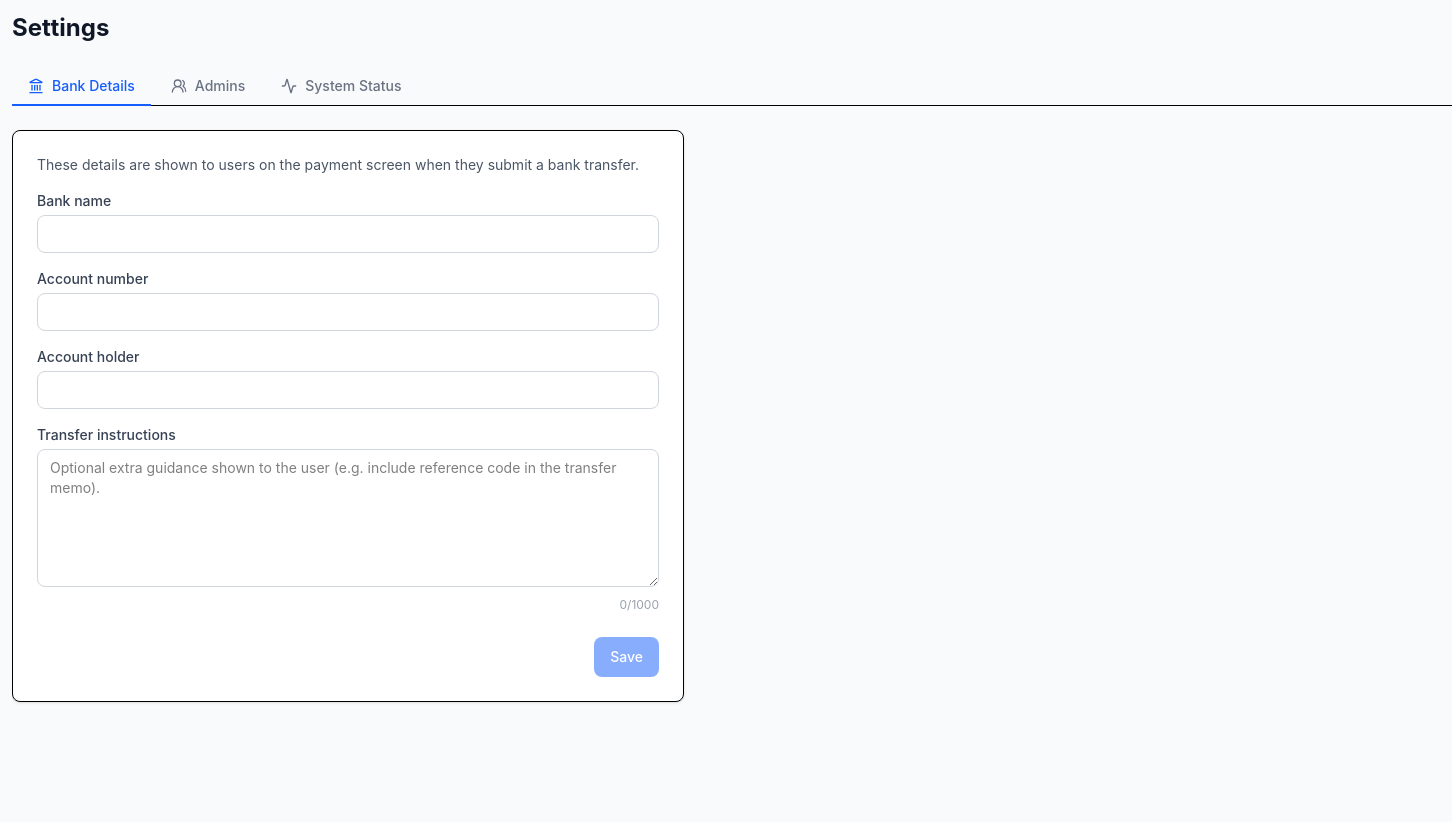
Test: SettingsPage — FreeRADIUS card › renders a healthy FreeRADIUS card with client count and raw detail
This screenshot has width=1452, height=822.
Click the button "System Status".
click(341, 87)  # box [265,68,418,106]
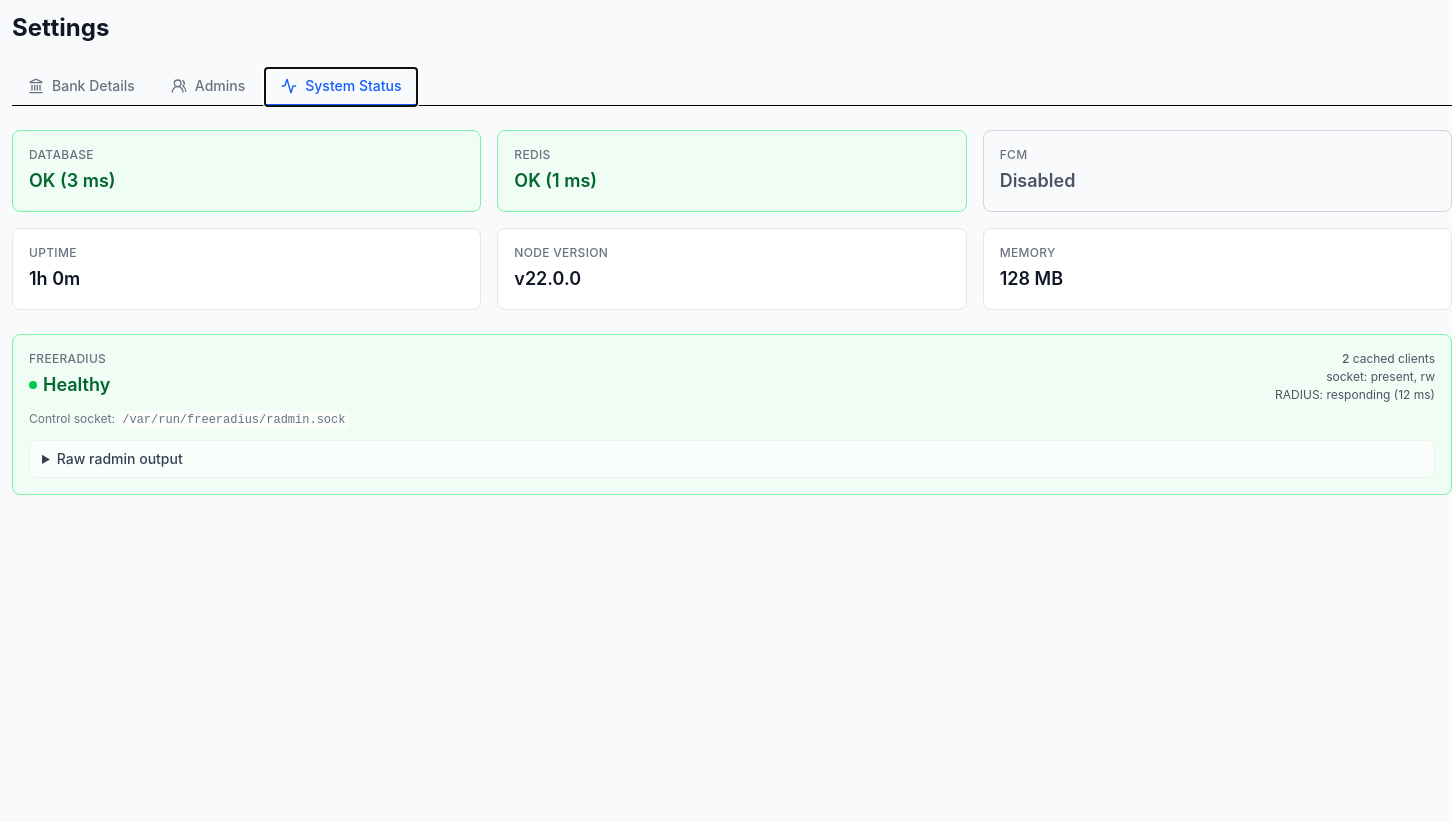
Check: the text "FreeRADIUS" is shown, box [29,351,110,367]
Check: the text "Healthy" is shown, box [29,371,110,399]
Check: the text "2 cached clients" is shown, box [1342,351,1435,366]
